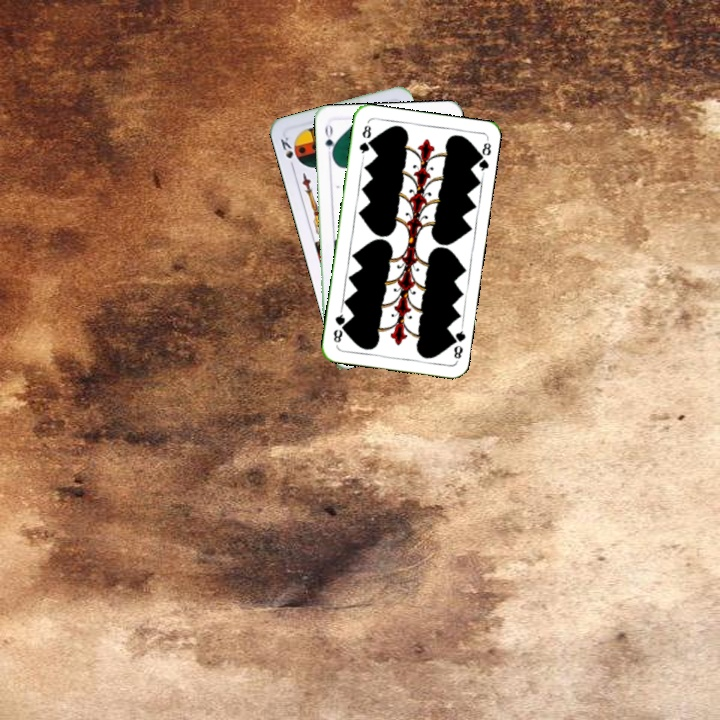G8: (446, 323, 468, 363), (355, 121, 374, 160)
GO: (321, 120, 338, 160)
SK: (276, 133, 297, 172)
